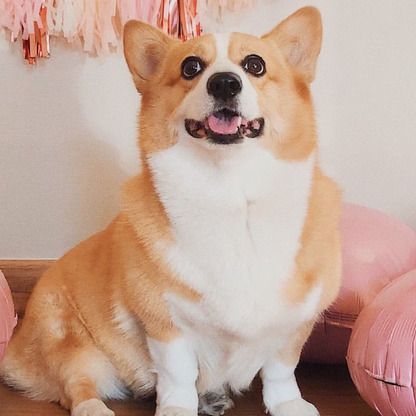Corgi: (40, 18, 377, 403)
